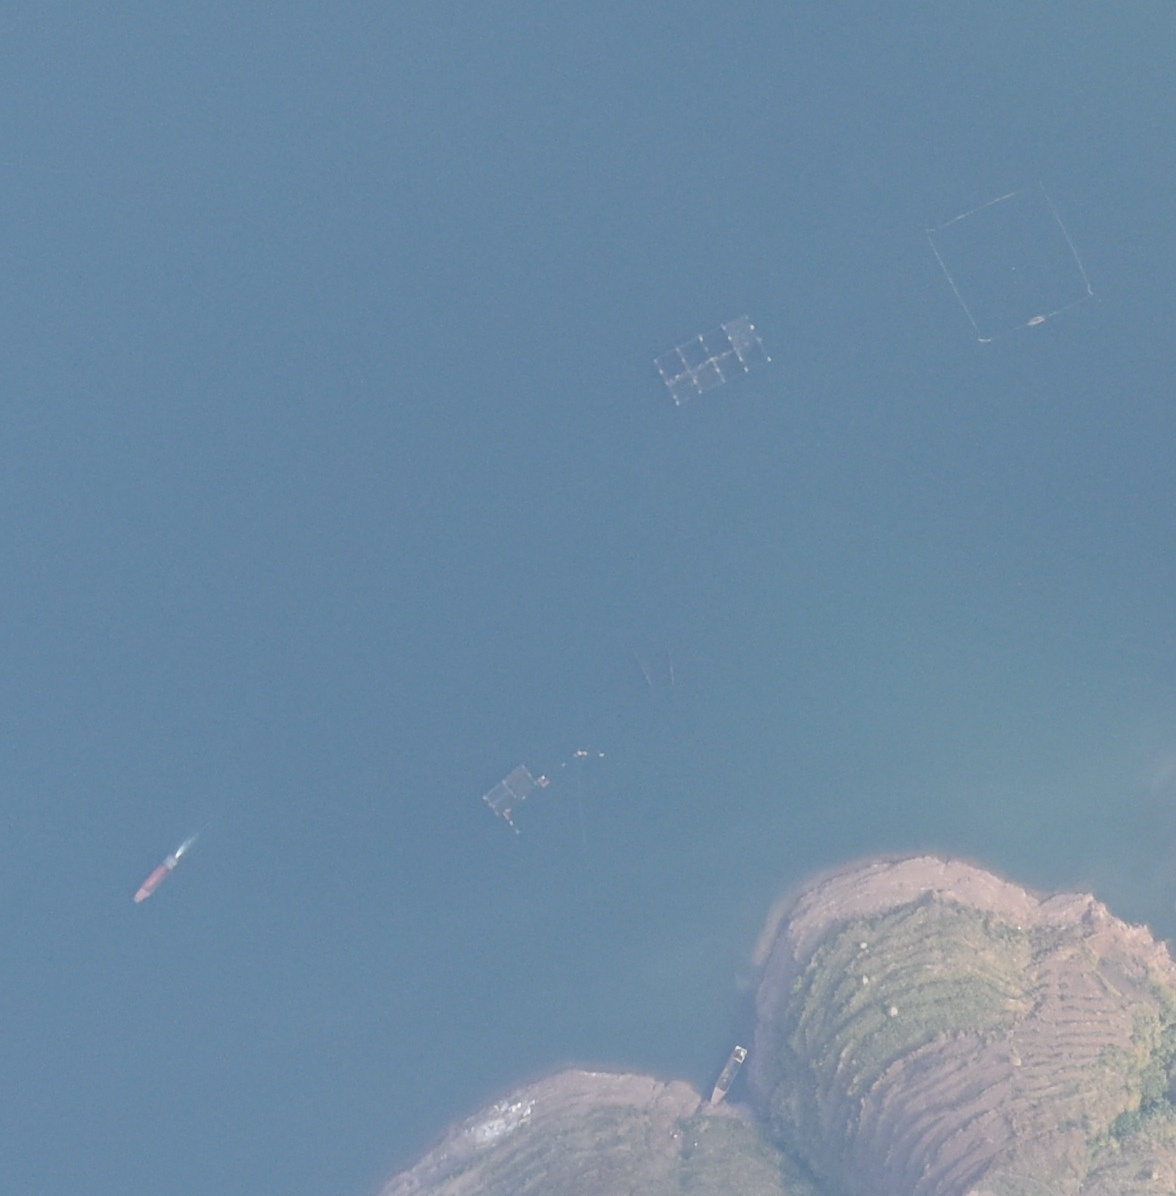cultivation-mesh-cage: (920, 179, 1099, 346), (648, 316, 773, 410), (479, 763, 553, 841)
ship: (707, 1042, 748, 1108), (131, 850, 178, 907)
